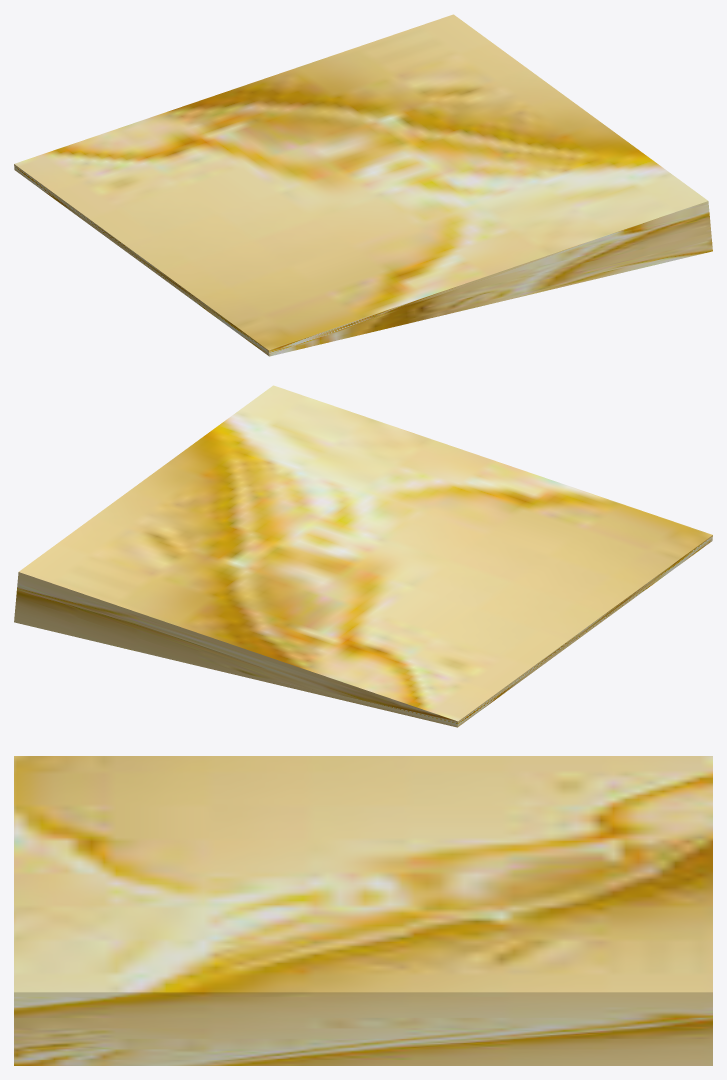
Rendered from pancake.glb.
3 renders of one model, top to bottom at view 1: azimuth 30°, elevation 25°; view 2: azimuth 150°, elevation 25°; view 3: azimuth 270°, elevation 25°, orthographic. The views are drawn at different scales.
Visible parts, largest first — view 1: Cube; view 2: Cube; view 3: Cube.
Part boxes in pixels (x1,y1,x2,y2): Cube: (14,14,712,356); Cube: (14,385,712,727); Cube: (14,756,712,1065).
Size of what is drawn, in the model's own units: 0.3736 by 0.0414 by 0.3714.
Materials: 1 (1 with a texture image).
